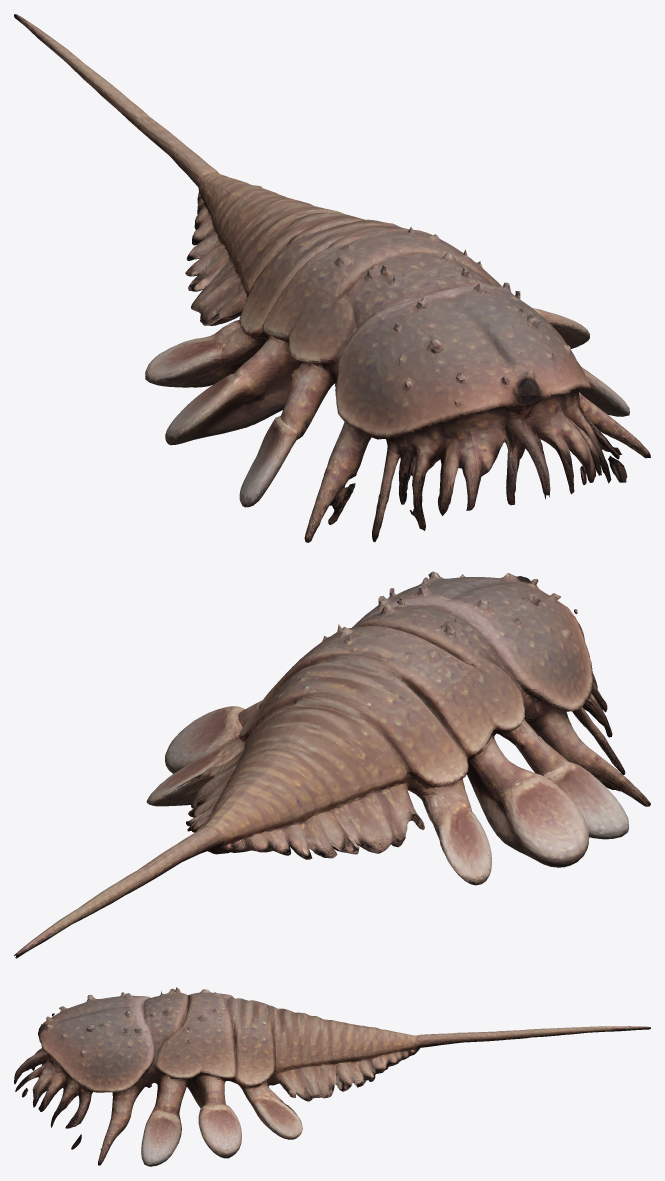
3 renders of one model, top to bottom at view 1: azimuth 30°, elevation 25°; view 2: azimuth 150°, elevation 25°; view 3: azimuth 270°, elevation 25°, orthographic. The views are drawn at different scales.
Parts seen in each view (by area): view 1: world; view 2: world; view 3: world.
Part boxes in pixels (x1,y1,x2,y2): world: (14, 14, 650, 542); world: (14, 571, 650, 958); world: (14, 987, 650, 1166).
Size of the model in its own units: 0.0186 by 0.00843 by 0.0412.
1 material, 1 textured.
